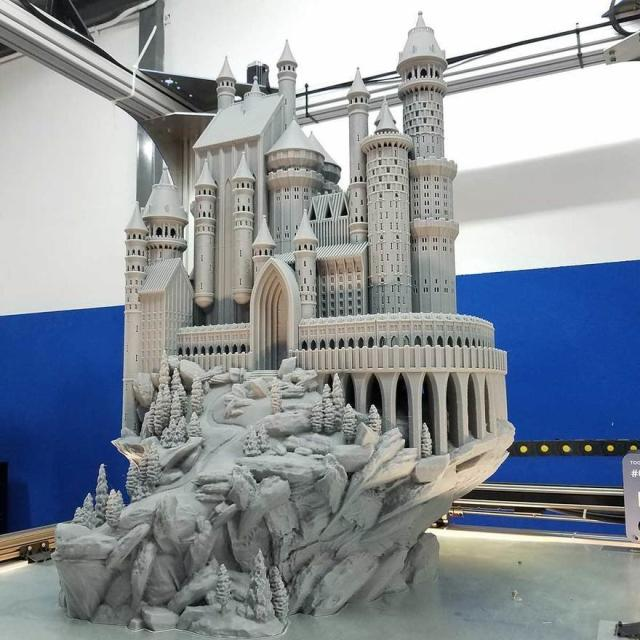Without deffect: (61, 16, 514, 632)
